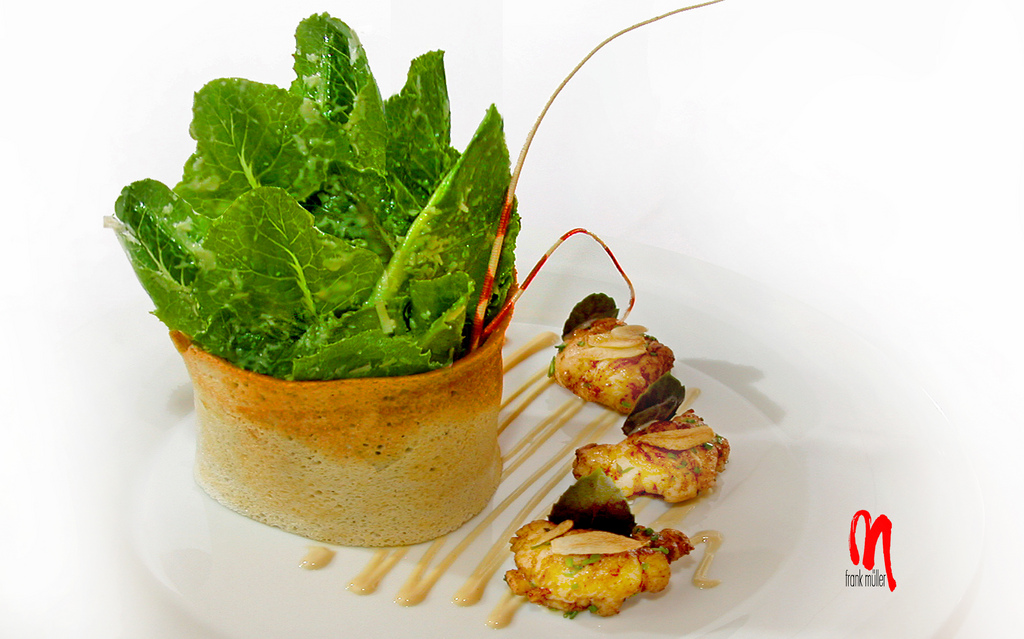chopped lettuce: (160, 73, 486, 352)
